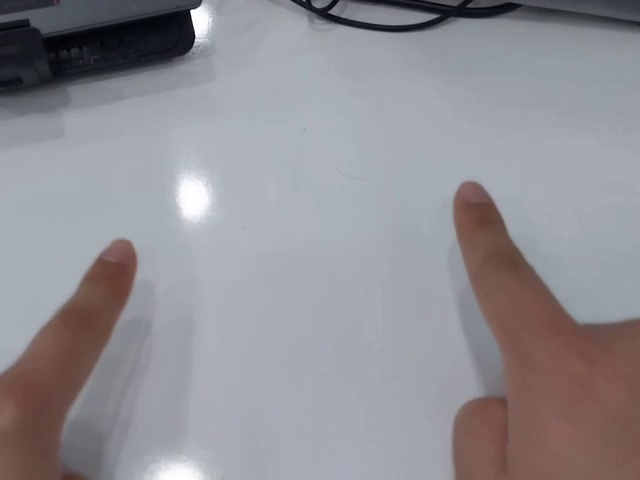fingers: (453, 180, 502, 231), (90, 237, 138, 284)
